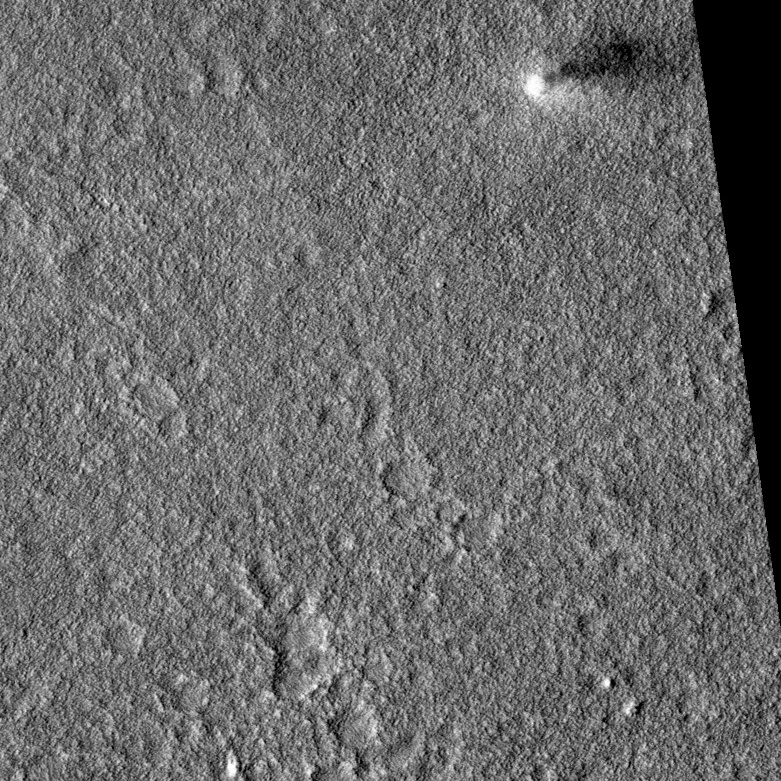dust_devil: (522, 26, 688, 106)
